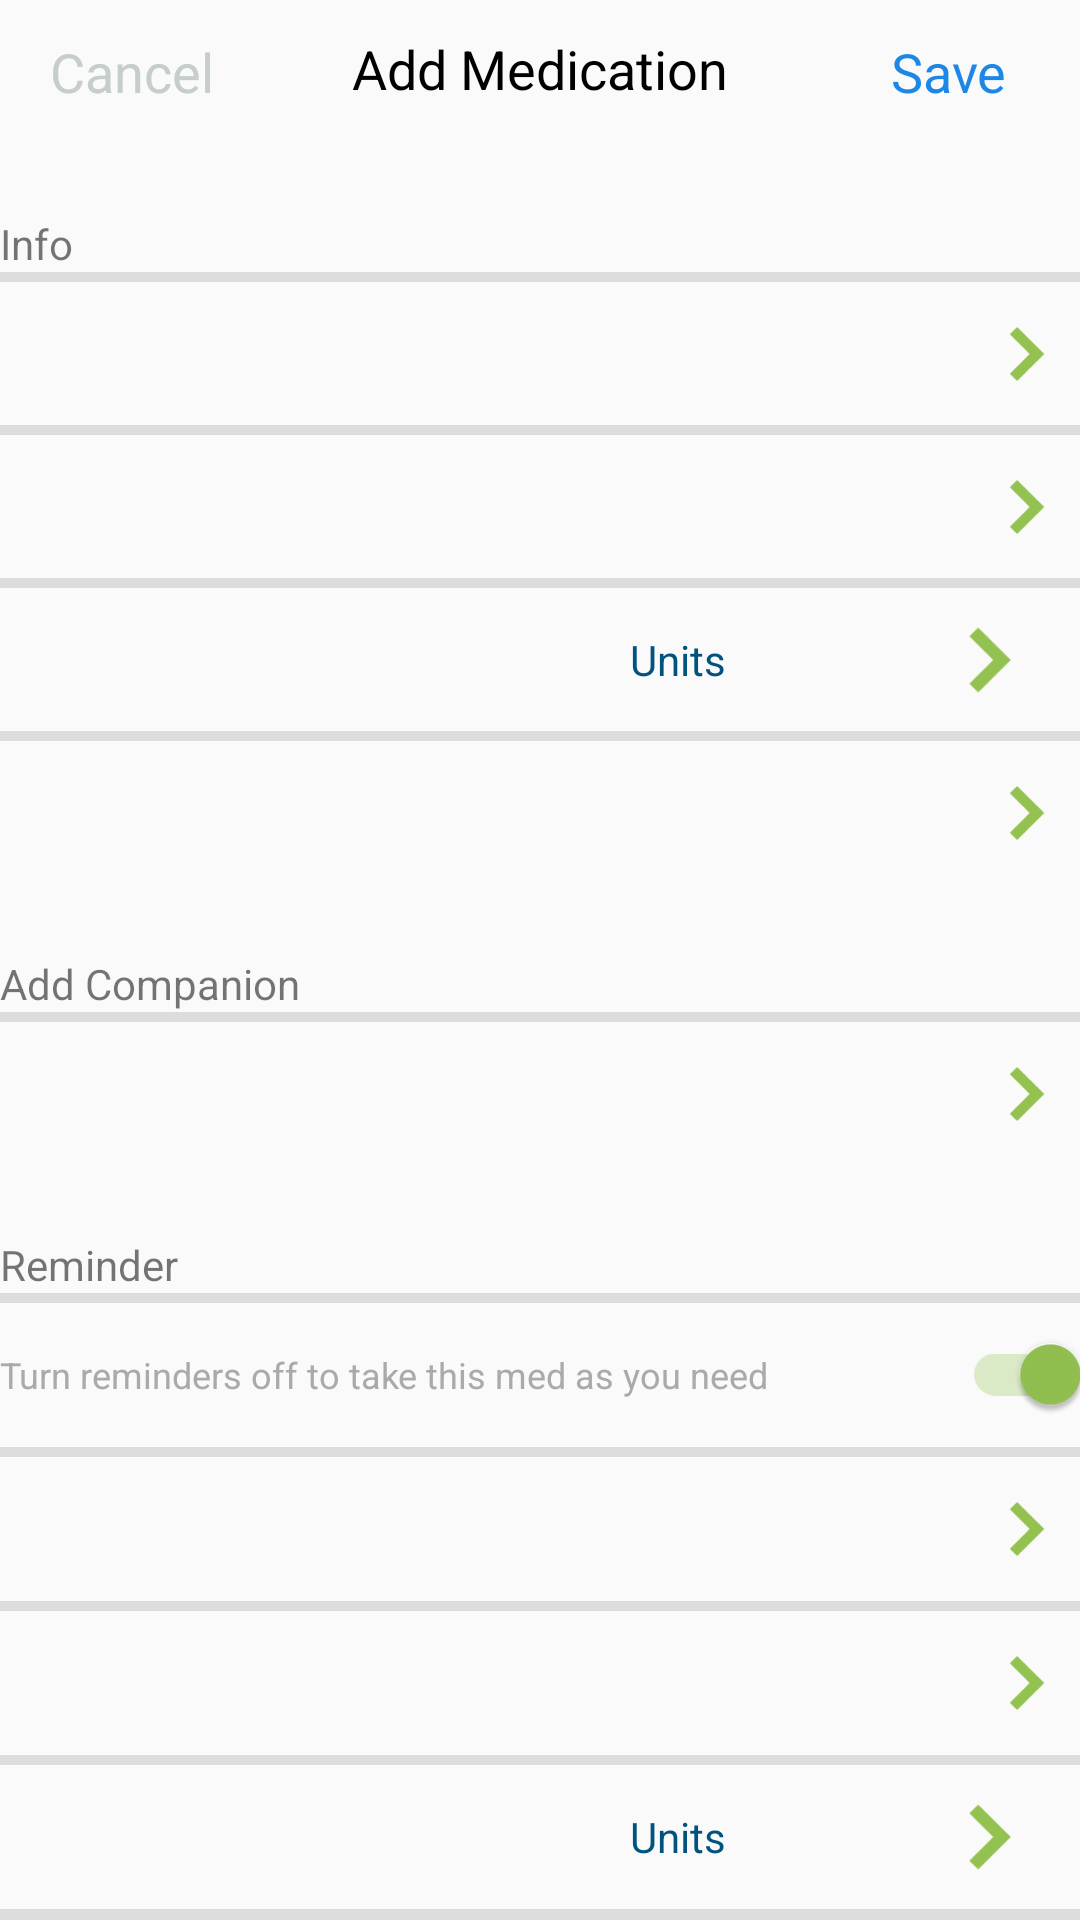

Screen size 1080px×1920px. Icon name, then its box in pixels as (x1, y1, x2, y2):
arrow: (1010, 327, 1044, 381), (1010, 480, 1044, 534), (969, 627, 1011, 693), (1010, 786, 1044, 840), (1010, 1067, 1044, 1121), (1010, 1502, 1044, 1556), (1010, 1656, 1044, 1710), (969, 1804, 1011, 1870)
